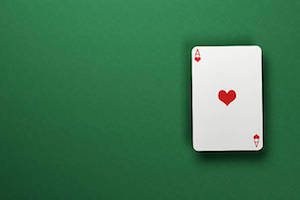AceOfHearts: (188, 42, 267, 160)
